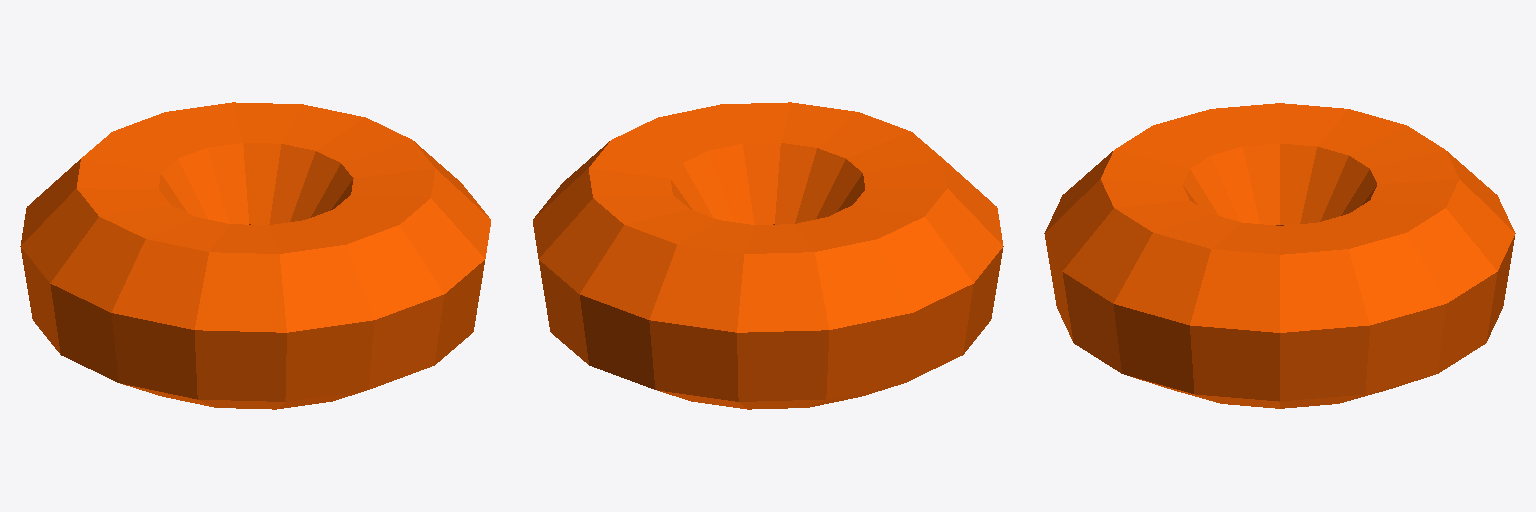
URDF robot description (Donut_3fd993924ef28b30cb1981abcfe85234):
<?xml version="1.0" ?>
<robot name="Donut_3fd993924ef28b30cb1981abcfe85234">
   <material name="obj_color">
      <color rgba="1.0 0.423529411765 0.0392156862745 1.0"/>
   </material>
   <link name="top">
      <inertial>
         <origin rpy="0.003492435691362594 0.003492440488821805 0.005815582999249128" xyz="2.542585451603749e-06 -0.0001116174378605748 0.0002252542686280127"/>
         <mass value="1.586079258927616"/>
         <inertia ixx="0.003492436043667032" ixy="1.251417772788063e-09" ixz="-4.735913258397136e-10" iyy="0.003492440136518844" iyz="1.789582548542434e-09" izz="0.005815582999247654"/>
      </inertial>
      <visual>
         <origin rpy="0 0 0" xyz="0 0 0"/>
         <geometry>
            <mesh filename="top_watertight_tiny.stl" scale="1 1 1"/>
         </geometry>
         <material name="obj_color"/>
      </visual>
      <collision>
         <origin rpy="0 0 0" xyz="0 0 0"/>
         <geometry>
            <mesh filename="top_watertight_tiny.obj" scale="1 1 1"/>
         </geometry>
      </collision>
   </link>
   <link name="bottom">
      <inertial>
         <origin rpy="1.633333333331402e-08 1.633333333331402e-08 1.633333333331402e-08" xyz="0.08660200000000004 0.08660200000000004 0.08660200000000004"/>
         <mass value="0.0009800000000000026"/>
         <inertia ixx="1.633333333331402e-08" ixy="-0" ixz="-0" iyy="1.633333333331402e-08" iyz="-0" izz="1.633333333331402e-08"/>
      </inertial>
      <visual>
         <origin rpy="0 0 0" xyz="0 0 0"/>
         <geometry>
            <mesh filename="bottom_watertight_tiny.stl" scale="1 1 1"/>
         </geometry>
         <material name="obj_color"/>
      </visual>
   </link>
   <joint name="rotation" type="revolute">
      <origin xyz="0 0 0"/>
      <axis xyz="0 0 -1"/>
      <parent link="bottom"/>
      <child link="top"/>
      <dynamics damping="1.0" friction="1.0"/>
      <limit effort="0.1" velocity="0.1" lower="0" upper="0.001"/>
   </joint>
</robot>

--- Facts derived from the render (not from the file) ---
Views: 3 orthographic renders of the robot side by side, from view 1: azimuth 30°, elevation 25°; view 2: azimuth 150°, elevation 25°; view 3: azimuth 270°, elevation 25°.
Model Donut_3fd993924ef28b30cb1981abcfe85234 with 2 links and 1 joints (1 revolute), rooted at bottom, posed every joint at zero.
Links seen in each view (by area): view 1: top; view 2: top; view 3: top.
Boxes of the visible links, box(x1,y1,x2,y2) form: top: box(20, 102, 490, 409); top: box(533, 102, 1003, 409); top: box(1044, 103, 1515, 408).
Bounding box of the posed robot: 0.1877 × 0.1877 × 0.0728 m (x, y, z).
1 mesh visuals loaded from 2 distinct referenced files (1 binary STL); not drawn: 1 (reference not matched to a file when rendering).